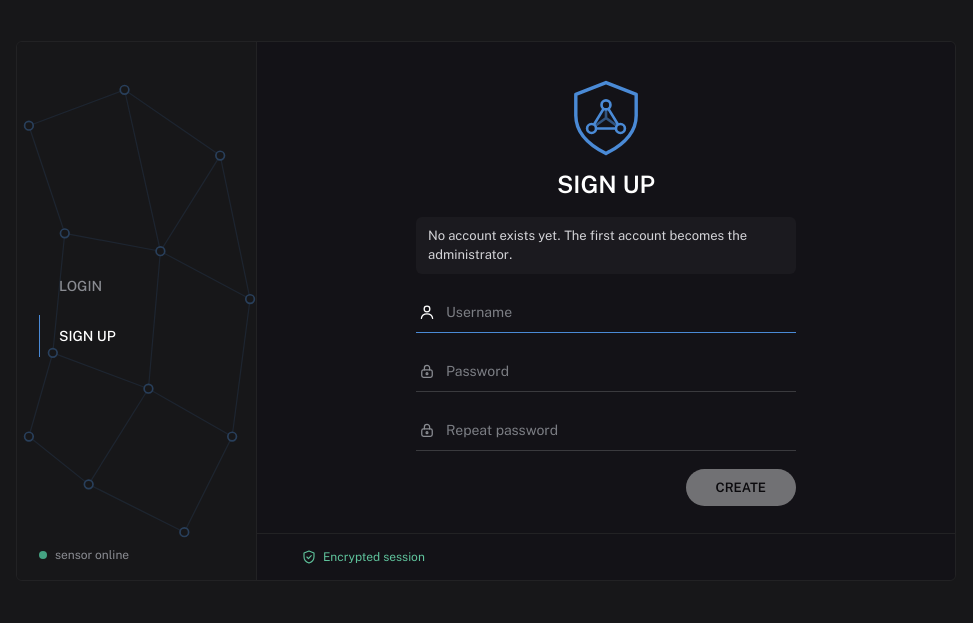
it: signing up › does not send mismatched passwords
Type "alice" into the field with placeholder "Username" at (620, 312), box [446,298,794,326]
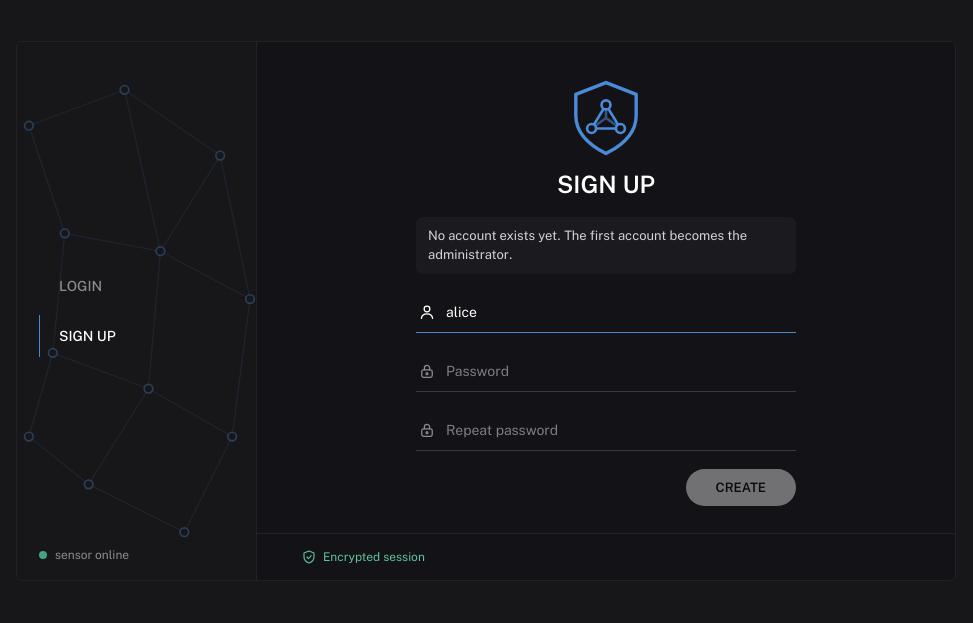
Type "correct horse battery" into the password field with placeholder "Password" at (620, 371), box [446,357,794,385]
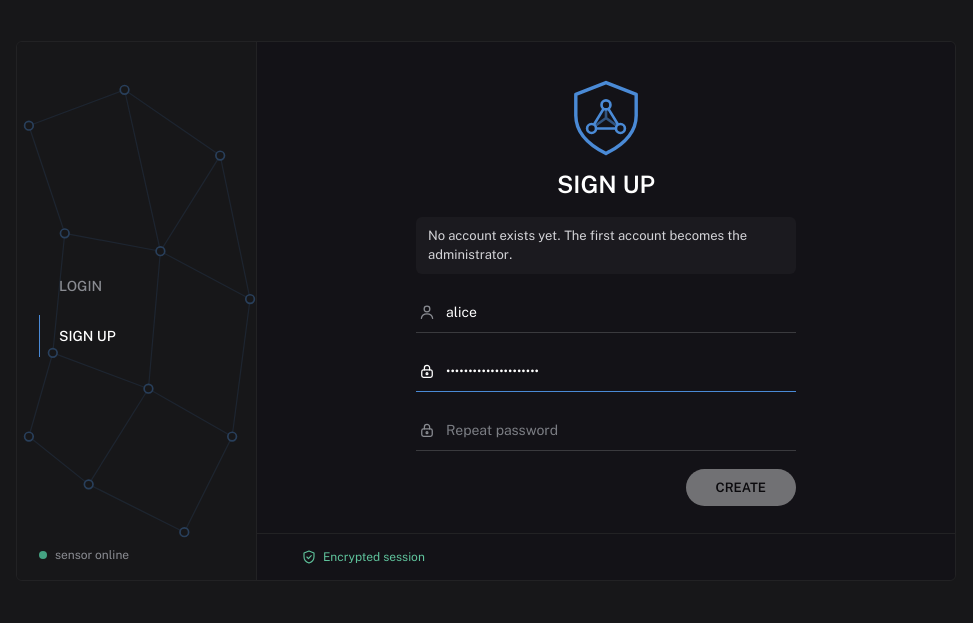
Type "something else entirely" into the password field with placeholder "Repeat password" at (620, 430), box [446,416,794,444]
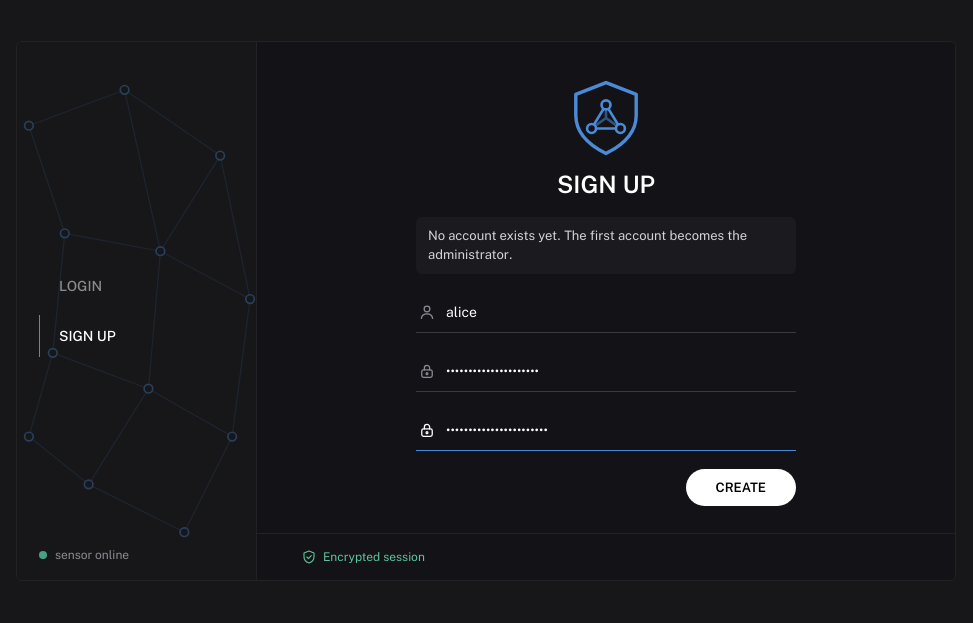
Click the button with class "auth-go" at (741, 487), box [686,469,796,506]
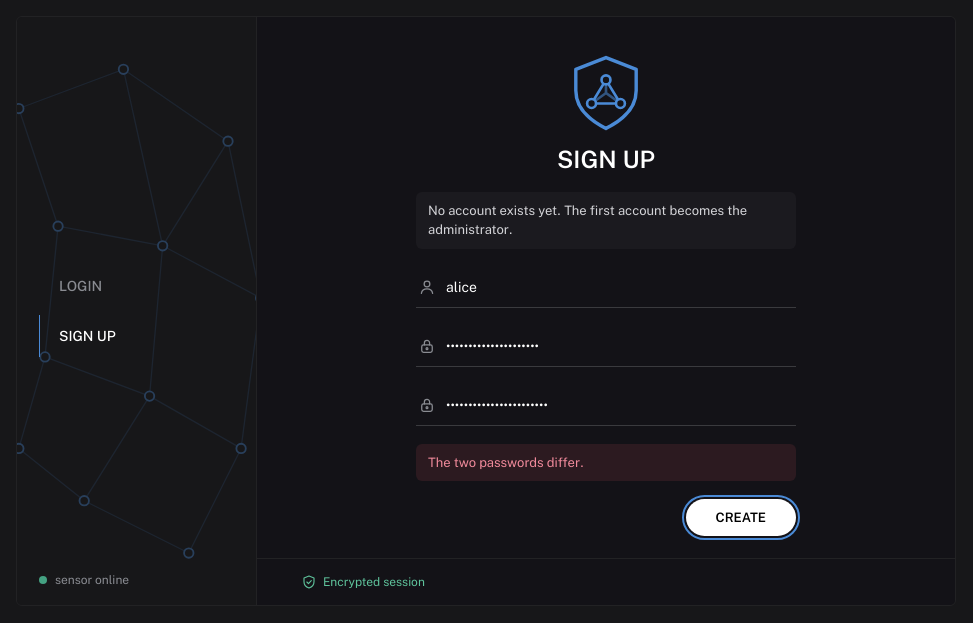
Now the text "The two passwords differ." is shown, box [416,444,796,481]
